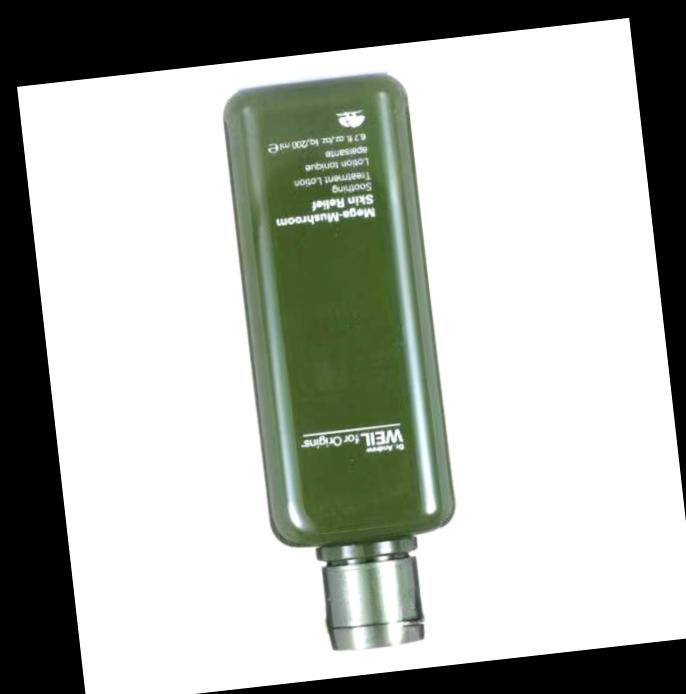cosmetic: (217, 66, 473, 664)
